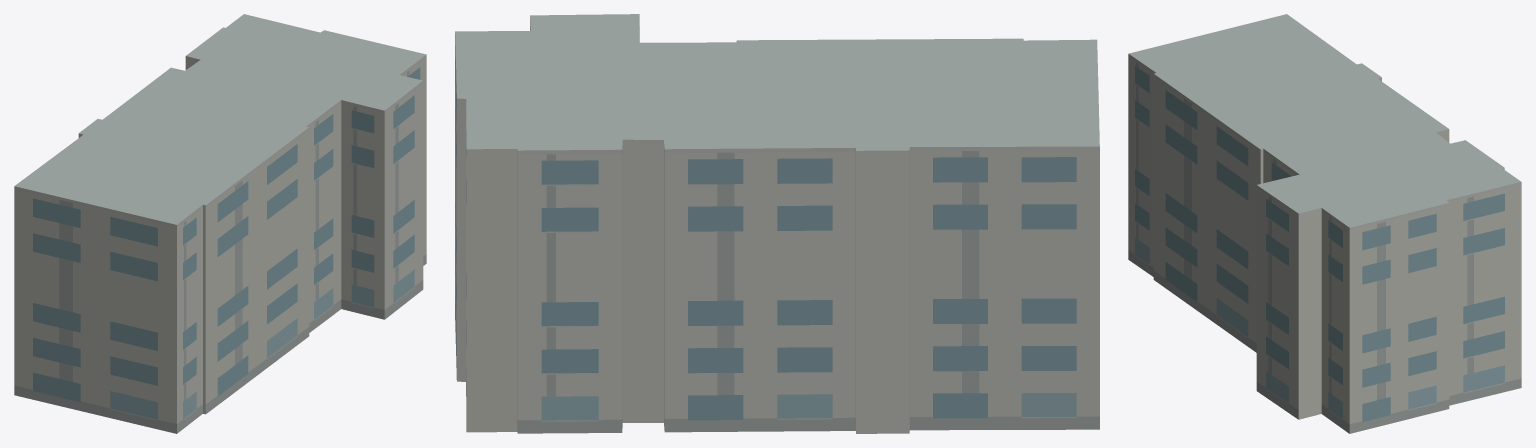
File: survey-upis-32834863.glb
3 views of the same model, side by side, from view 1: azimuth 30°, elevation 25°; view 2: azimuth 150°, elevation 25°; view 3: azimuth 270°, elevation 25° (orthographic). The views are drawn at different scales.
Parts seen in each view (by area): view 1: survey-upis-32834863.tmp; view 2: survey-upis-32834863.tmp; view 3: survey-upis-32834863.tmp.
Part boxes in pixels (x1=…): survey-upis-32834863.tmp: x1=14, y1=14, x2=426, y2=433; survey-upis-32834863.tmp: x1=455, y1=14, x2=1099, y2=433; survey-upis-32834863.tmp: x1=1128, y1=14, x2=1521, y2=433.
Bounding box in the file's own units: 38.94 × 17.5 × 30.25.
